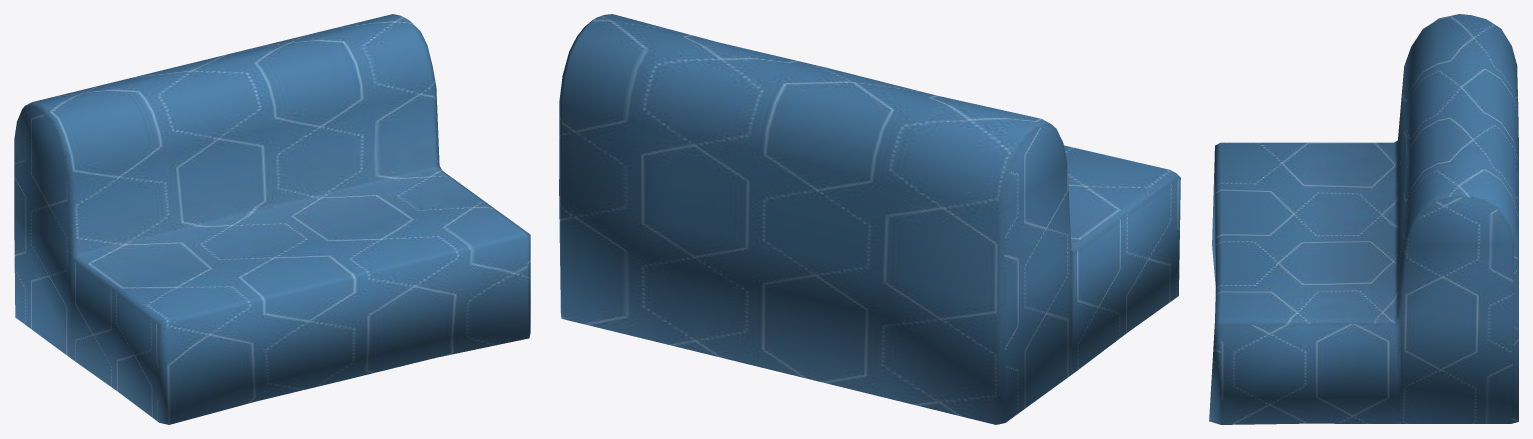
The model's file is sh_scopia_convertible_sofa_bz_closed.glb.
3 views of the same model, side by side, from view 1: azimuth 30°, elevation 25°; view 2: azimuth 150°, elevation 25°; view 3: azimuth 270°, elevation 25° (orthographic). The views are drawn at different scales.
Bounding box in the file's own units: 1.43 × 0.873 × 1.02.
Materials: 4 (1 with a texture image).
